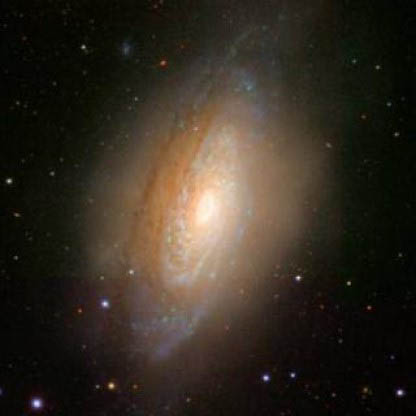NGC 3521: (27, 24, 359, 409)
